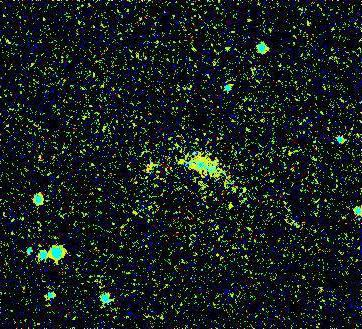star: (165, 146, 195, 176)
